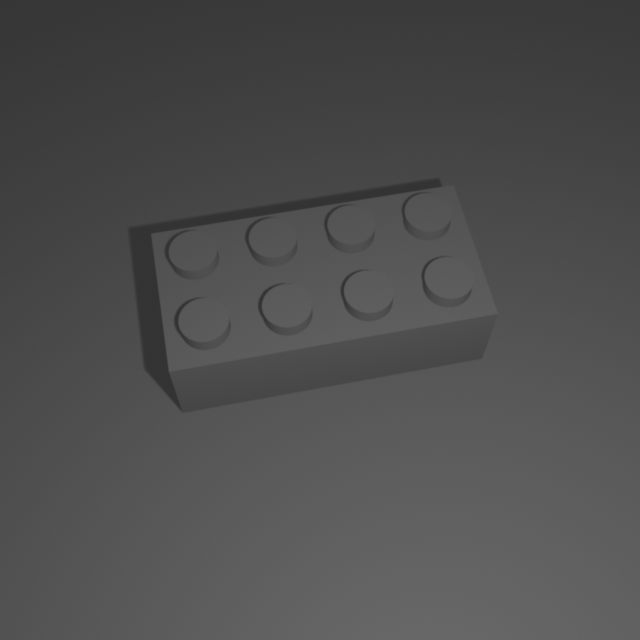lego_2x4: (148, 175, 501, 413)
